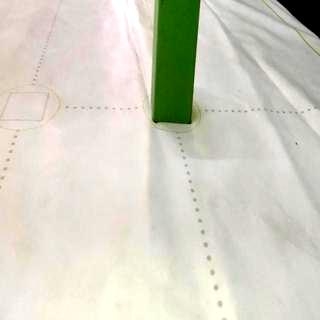greenbox: (151, 1, 203, 122)
